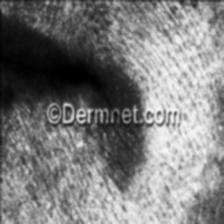Toxin: (91, 124, 143, 184), (88, 55, 141, 108)
